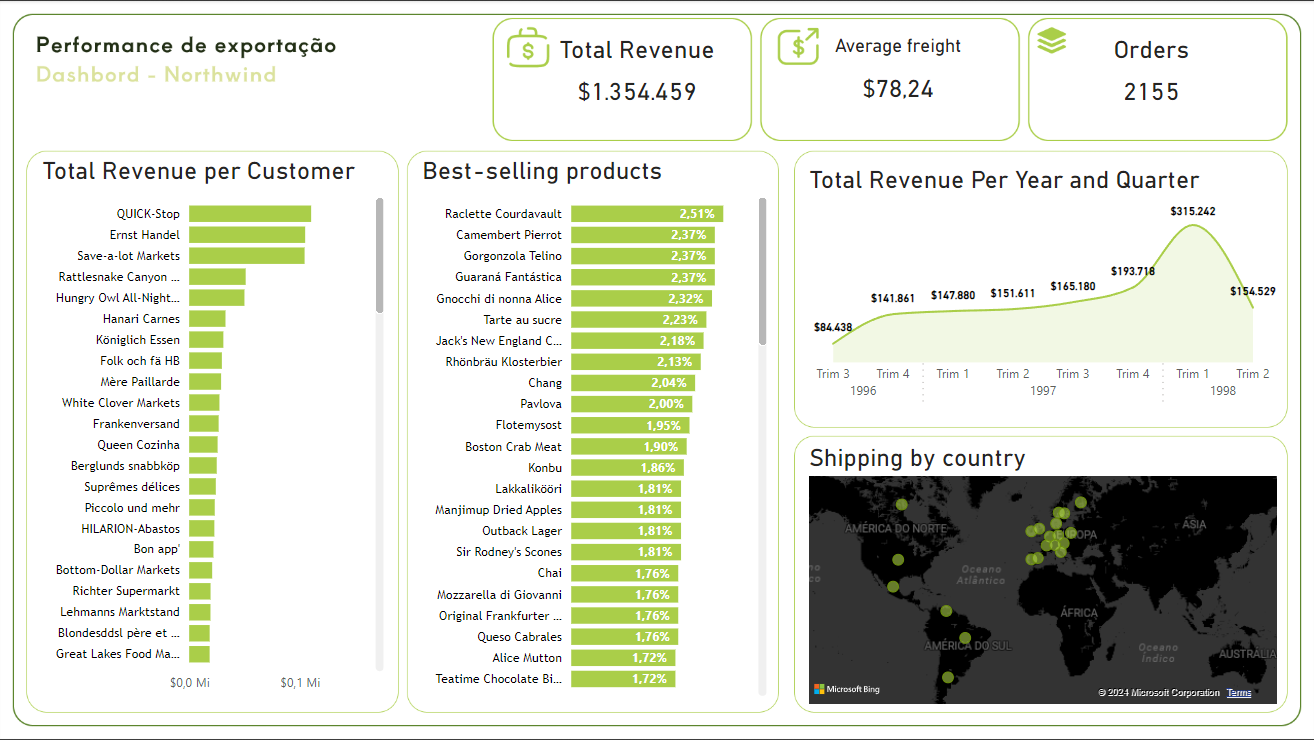

This screenshot's page, from the dashboard's own definition file:
{"tool":"powerbi","page":{"name":"Dash_Principal","canvas":[1280,720],"ordinal":0},"visuals":[{"type":"areaChart","title":"Total Revenue Per Year and Quarter","fields":{"Category":["Orders.OrderDate.Variation.Hierarquia de datas.Ano","Orders.OrderDate.Variation.Hierarquia de datas.Trimestre"],"Y":["#Medidas.Receita_Total"]},"box":[783,160,465,242],"z":0},{"type":"card","title":"Total Revenue","fields":{"Values":["#Medidas.Receita_Total"]},"box":[521.3,34,198.4,81.7],"z":1000},{"type":"card","title":"Orders","fields":{"Values":["#Medidas.Contagem de Pedidos"]},"box":[1020.3,34,201.3,81.7],"z":2000},{"type":"card","title":" Average freight","fields":{"Values":["Customers.Margem_Lucro"]},"box":[758.7,34,231.5,81.7],"z":3000},{"type":"barChart","title":"Best-selling products","fields":{"Category":["Products.ProductName"],"Y":["CountNonNull(Order Details.OrderID)"]},"box":[406.5,151.9,345.1,530.3],"z":6000},{"type":"barChart","title":"Total Revenue per Customer","fields":{"Category":["Customers.CompanyName"],"Y":["#Medidas.Receita_total_Cliente"]},"box":[37,151.7,342.4,530.1],"z":7000},{"type":"map","title":"Shipping by country","fields":{"Category":["Orders.ShipCountry"]},"box":[783,430.9,464.9,258.7],"z":8000}]}

Visuals, with their boxes in screenshot pixels (x1, y1, x2, y2), scaled from the page's 1280x720 canvas onto the 1314x740 screenshot:
"Total Revenue Per Year and Quarter" areaChart: l=804, t=164, r=1281, b=413
"Total Revenue" card: l=535, t=35, r=739, b=119
"Orders" card: l=1047, t=35, r=1254, b=119
" Average freight" card: l=779, t=35, r=1017, b=119
"Best-selling products" barChart: l=417, t=156, r=772, b=701
"Total Revenue per Customer" barChart: l=38, t=156, r=389, b=701
"Shipping by country" map: l=804, t=443, r=1281, b=709
